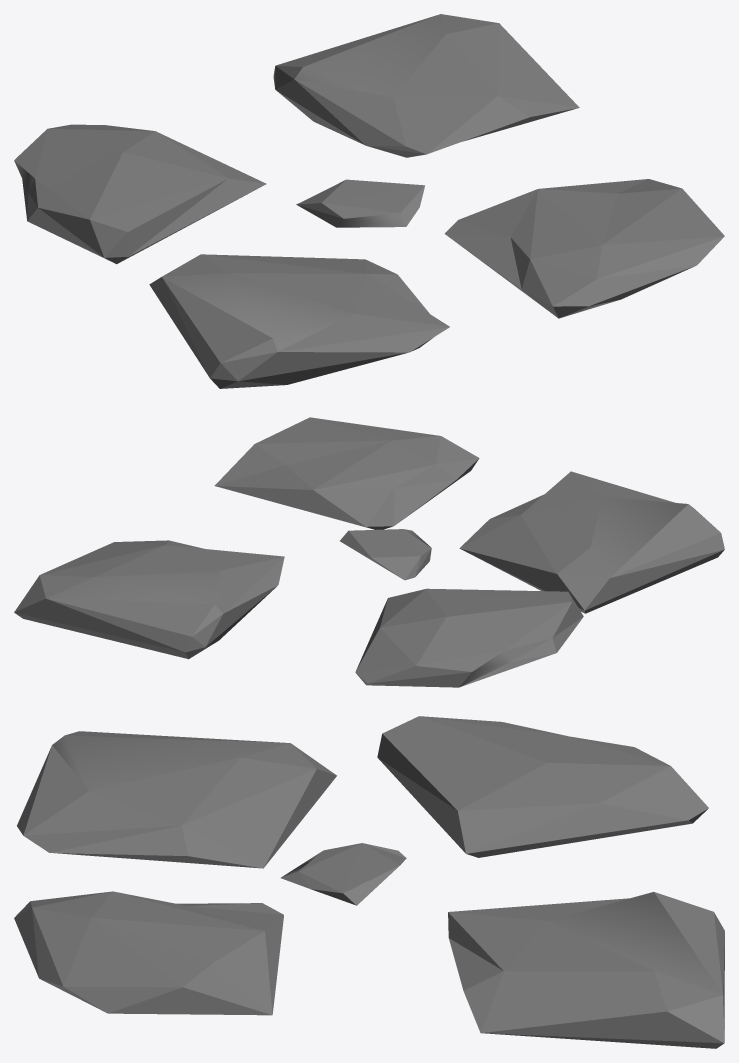
Rendered from Tile_05.fbx.
3 renders of one model, top to bottom at view 1: azimuth 30°, elevation 25°; view 2: azimuth 150°, elevation 25°; view 3: azimuth 270°, elevation 25°, orthographic. The views are drawn at different scales.
Parts seen in each view (by area): view 1: Tile_05; view 2: Tile_05; view 3: Tile_05.
Boxes of the visible parts, <box> form: Tile_05: <box>14,14,724,388</box>; Tile_05: <box>14,417,724,687</box>; Tile_05: <box>14,716,724,1048</box>.
Size of the model in its own units: 1.6 by 0.1607 by 1.6.
